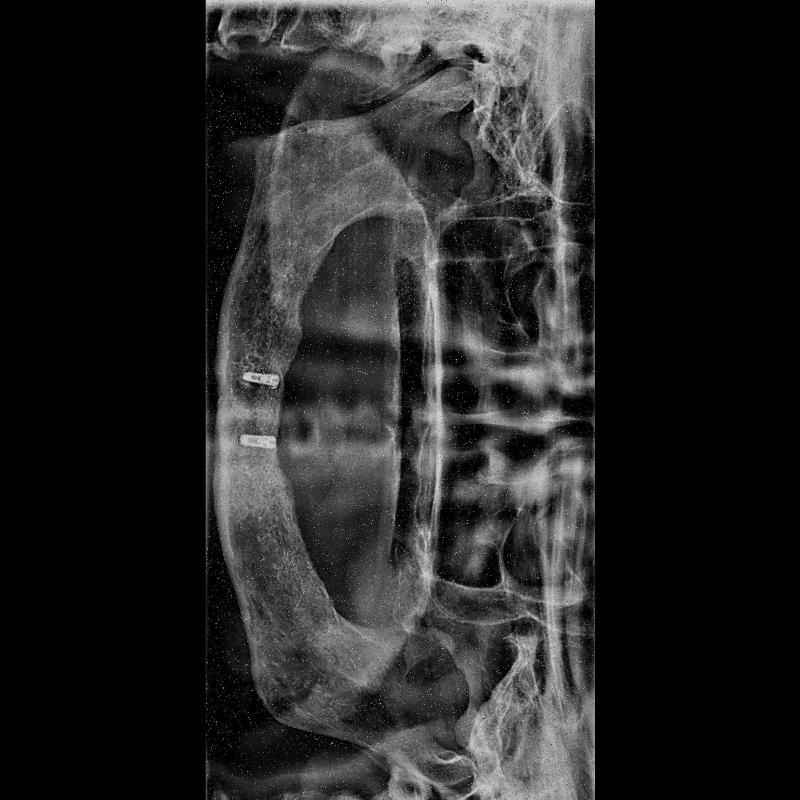osstem: (237, 427, 277, 455), (238, 365, 280, 391)
